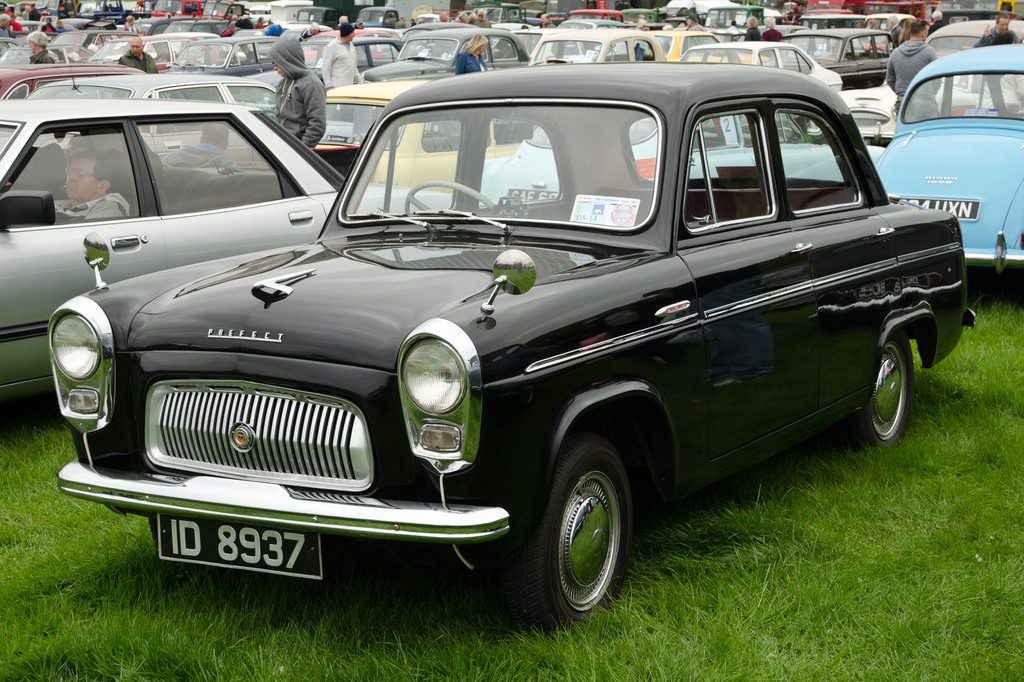Car: (0, 12, 1023, 635)
